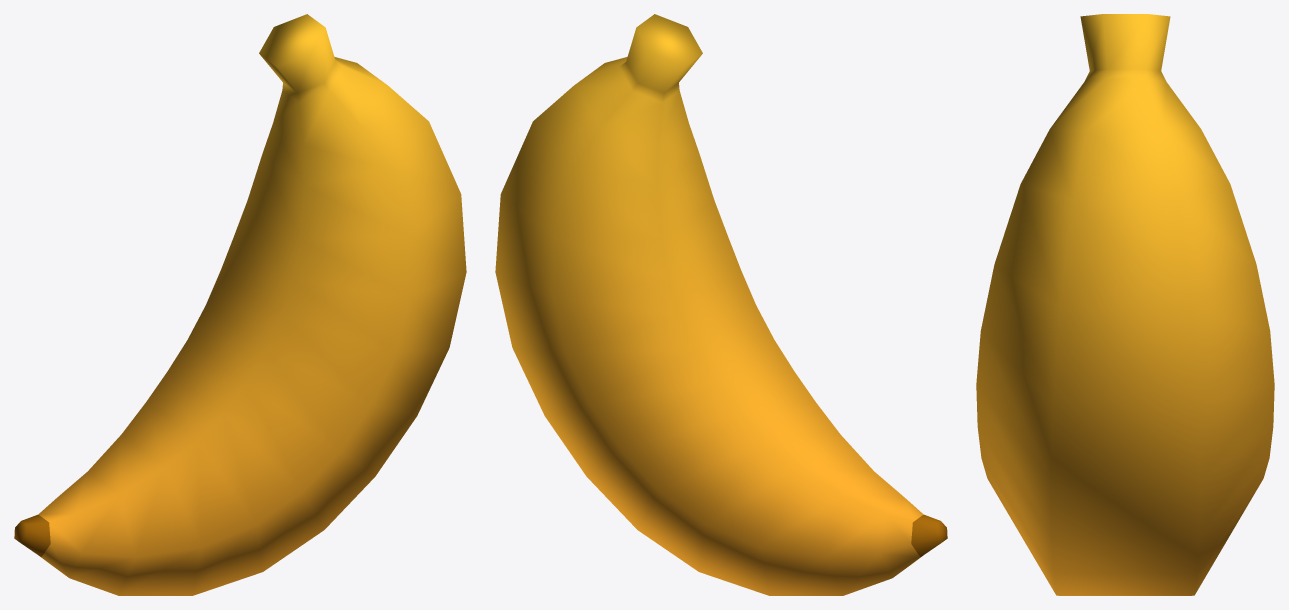
File: Collectable_Banana_01.fbx
3 views of the same model, side by side, from view 1: azimuth 30°, elevation 25°; view 2: azimuth 150°, elevation 25°; view 3: azimuth 270°, elevation 25° (orthographic). The views are drawn at different scales.
Visible parts, largest first — view 1: Collectable_Banana_01; view 2: Collectable_Banana_01; view 3: Collectable_Banana_01.
Boxes of the visible parts, x1=… form: Collectable_Banana_01: x1=14, y1=14, x2=466, y2=595; Collectable_Banana_01: x1=495, y1=14, x2=947, y2=595; Collectable_Banana_01: x1=976, y1=14, x2=1274, y2=595.
Size of the model in its own units: 51.37 by 61.19 by 25.76.
Materials: 1 (1 with a texture image).
